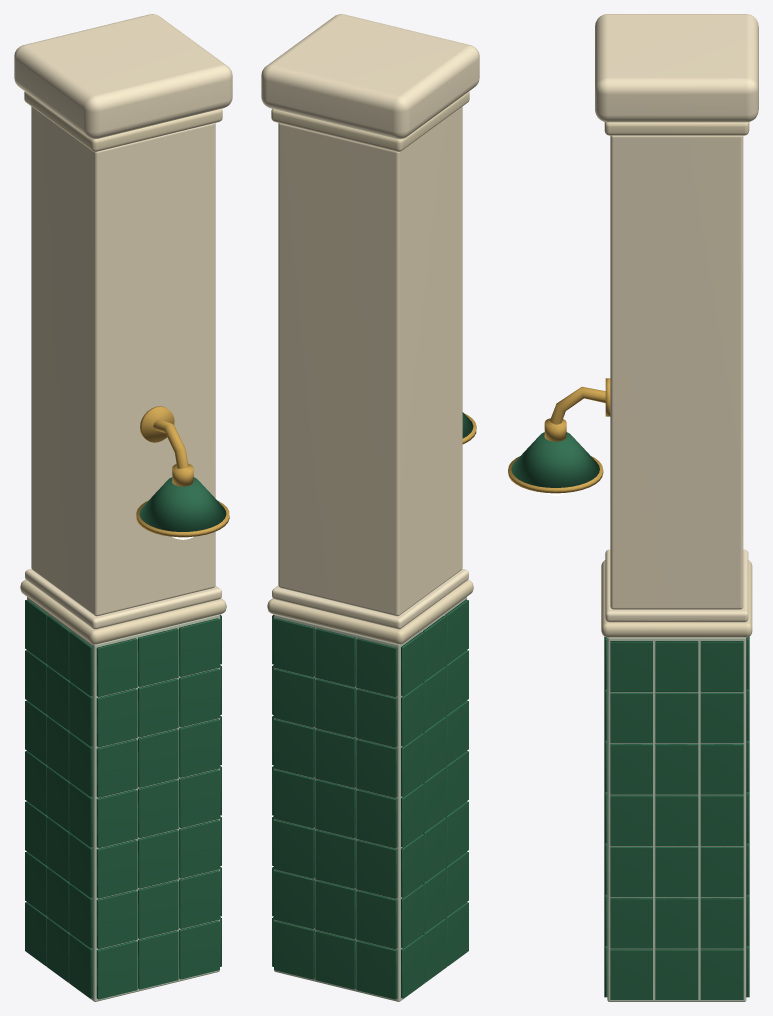
The model's file is shop_column.glb.
3 renders of one model, left to right at view 1: azimuth 30°, elevation 25°; view 2: azimuth 150°, elevation 25°; view 3: azimuth 270°, elevation 25°, orthographic.
Visible parts, largest first — view 1: Shaft, TopCap, BaseCore, CapLower, Shade, CapUpper, TopNeck, Tiley-100, Tiley-160, Tiley-110, Tiley-120, Tiley-130 (+40 smaller); view 2: Shaft, TopCap, BaseCore, CapLower, CapUpper, TopNeck, Tiley100, Tiley140, Tiley160, Tiley110, Tiley120, Tiley130 (+36 smaller); view 3: Shaft, TopCap, BaseCore, Shade, CapLower, CapUpper, Tilex121, Tilex122, Tilex151, Tilex152, Tilex101, Tilex102 (+18 smaller).
Part boxes in pixels (x1,y1,x2,y2): Shaft: (31,106,215,616); TopCap: (14,14,232,139); BaseCore: (27,597,219,1001); CapLower: (20,580,226,644); Shade: (139,477,226,531); CapUpper: (25,569,221,629); TopNeck: (24,91,222,151); Tiley-100: (96,940,137,999); Tiley-160: (96,638,137,697); Tiley-110: (96,890,137,949); Tiley-120: (96,840,137,898); Tiley-130: (96,789,137,848); Shaft: (278,106,462,616); TopCap: (261,14,479,139); BaseCore: (274,597,466,1001); CapLower: (267,580,473,644); CapUpper: (272,569,468,629); TopNeck: (271,91,469,151); Tiley100: (356,940,397,999); Tiley140: (356,739,397,797); Tiley160: (356,638,397,697); Tiley110: (356,890,397,949); Tiley120: (356,840,397,898); Tiley130: (356,789,397,848); Shaft: (610,135,743,609); TopCap: (595,14,758,122); BaseCore: (607,637,746,1001); Shade: (511,432,599,487); CapLower: (601,560,752,637); CapUpper: (605,549,748,622); Tilex121: (655,846,698,897); Tilex122: (700,846,743,897); Tilex151: (655,692,698,743); Tilex152: (700,692,743,743); Tilex101: (655,949,698,999); Tilex102: (700,949,743,999).
Bounding box in the file's own units: 0.54 × 3.17 × 0.7799.
